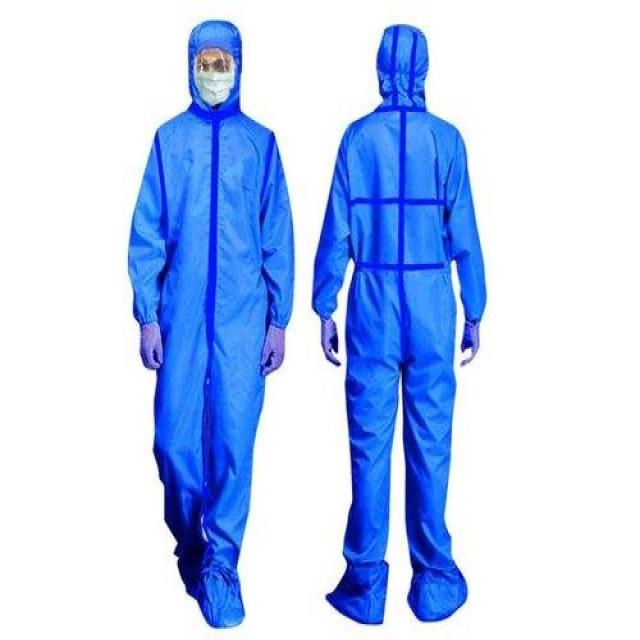Coverall: (125, 16, 336, 624), (296, 3, 492, 632)
Gloves: (126, 309, 185, 392), (432, 314, 500, 381), (313, 288, 363, 374), (250, 322, 297, 389)
Mask: (192, 72, 232, 110)
